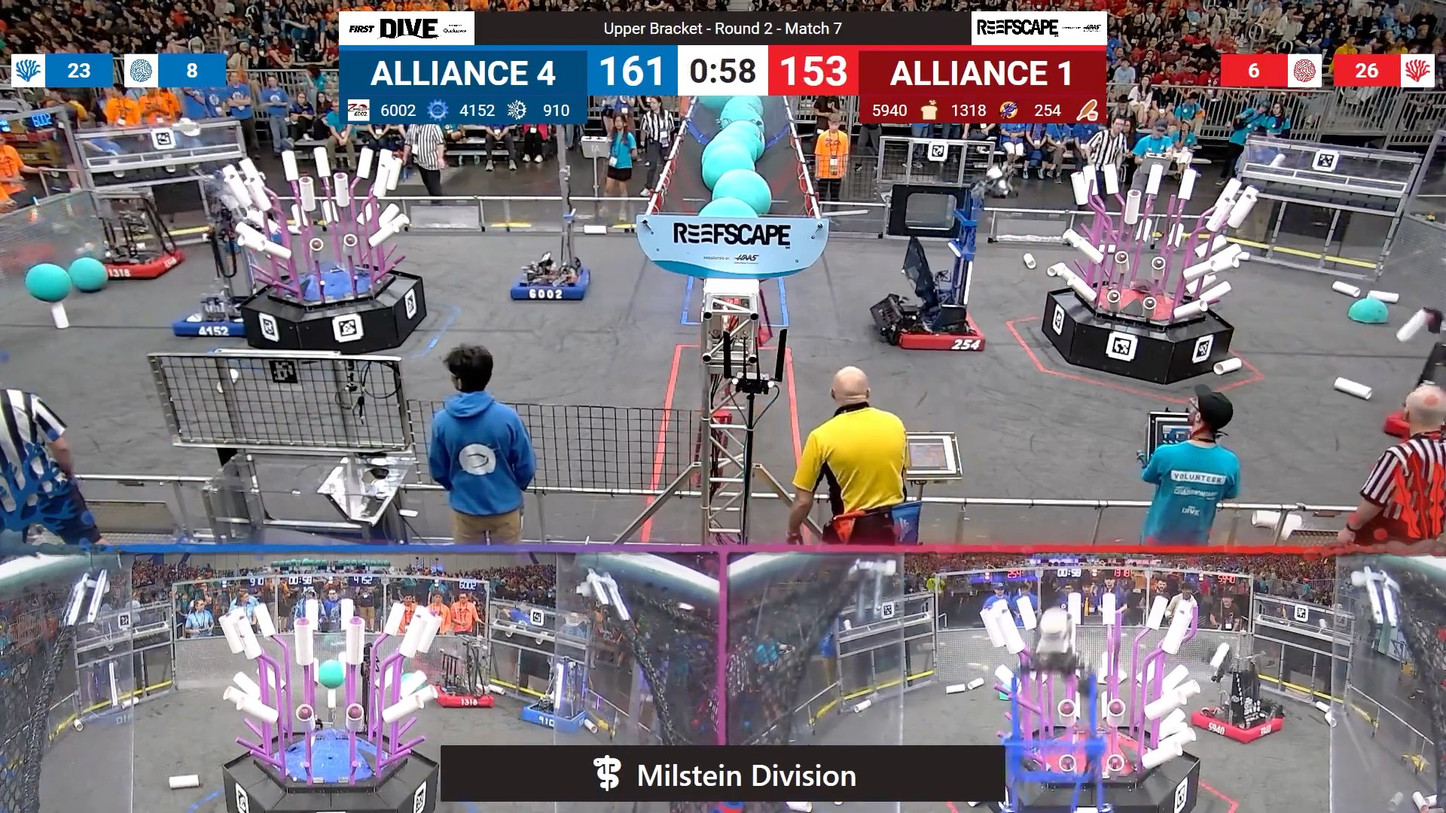bumpers: (872, 297, 1000, 361), (88, 240, 191, 287), (1180, 701, 1289, 745), (173, 294, 256, 344), (505, 262, 597, 304), (1382, 394, 1446, 453), (519, 702, 599, 737), (424, 681, 498, 712)
